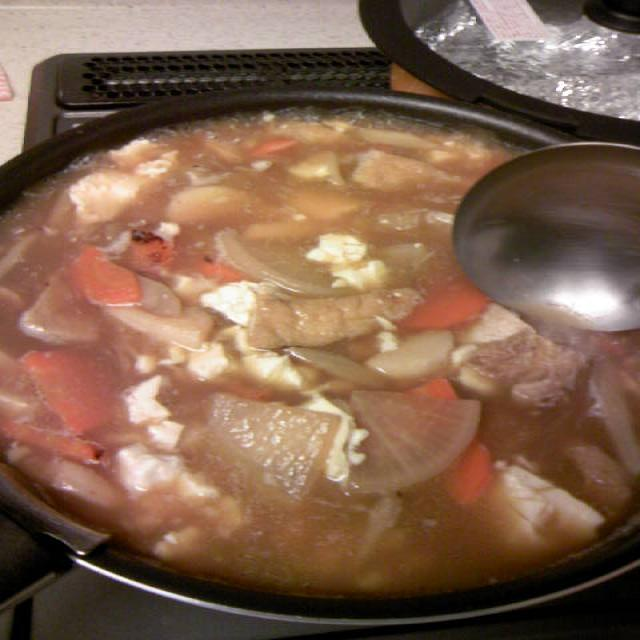蔬菜料理: (0, 76, 640, 634)
